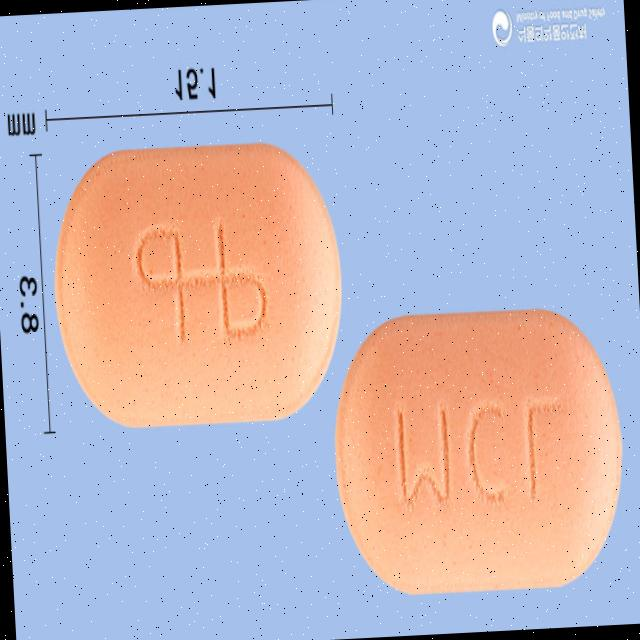Cephamethyl Tab: (326, 296, 634, 602), (46, 132, 353, 438)
